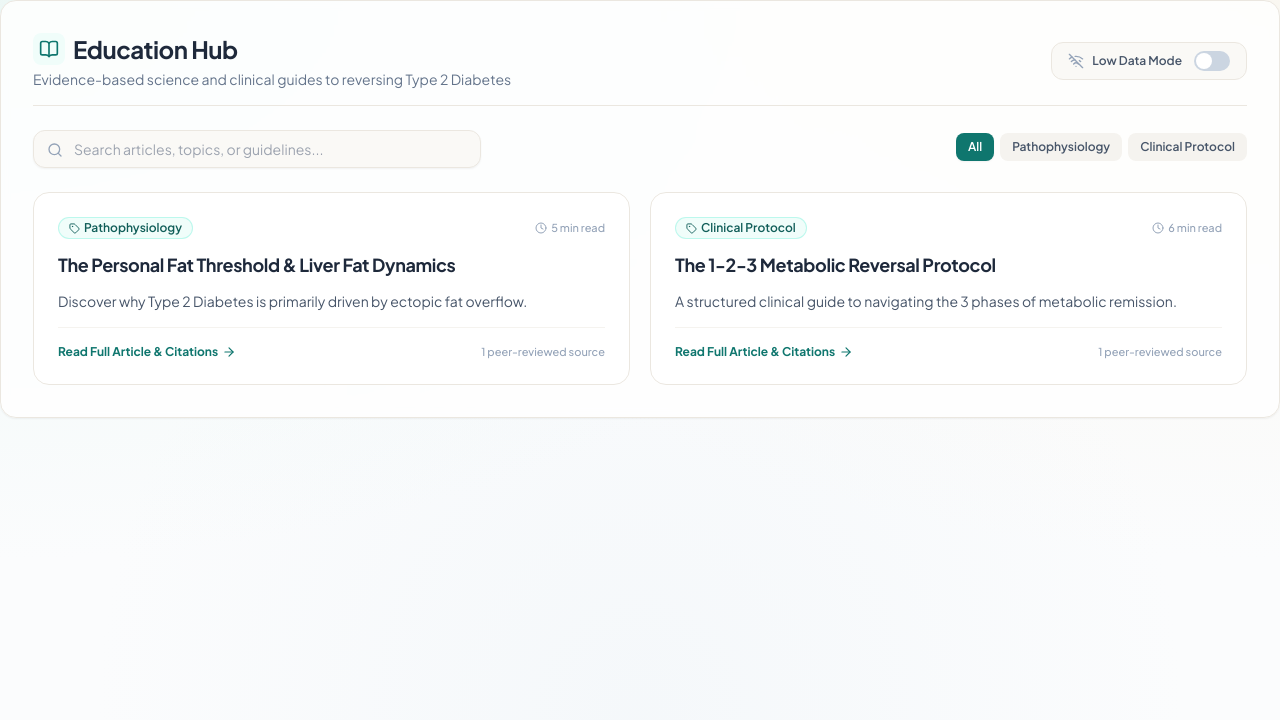
Test: EduHub Component › filters articles by category when category pill is selected
Expected: the text "The Personal Fat Threshold & Liver Fat Dynamics" is shown, [58,251,456,279]
Click Clinical Protocol category pill
Click the button "Clinical Protocol".
click(1188, 147)  # box [1128,133,1247,161]
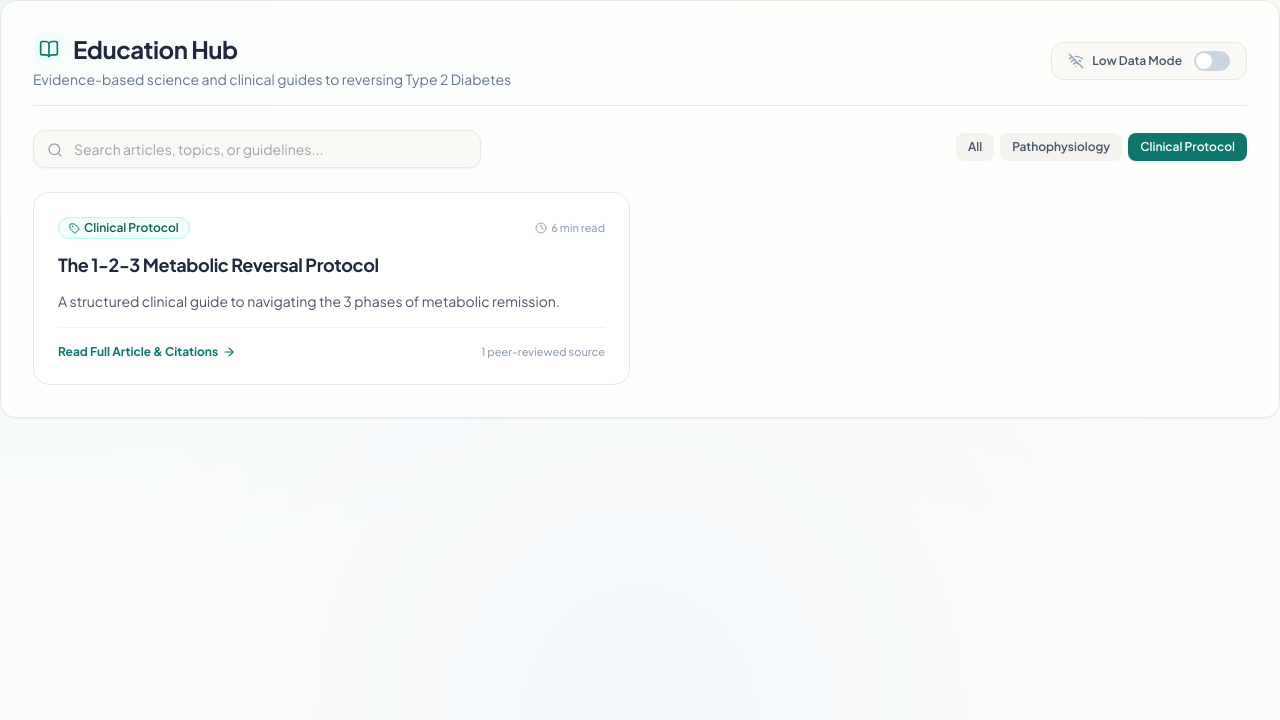
Expected: the text "The 1-2-3 Metabolic Reversal Protocol" is shown, [58,251,379,279]
Now the button "The Personal Fat Threshold & Liver Fat Dynamics" is gone
